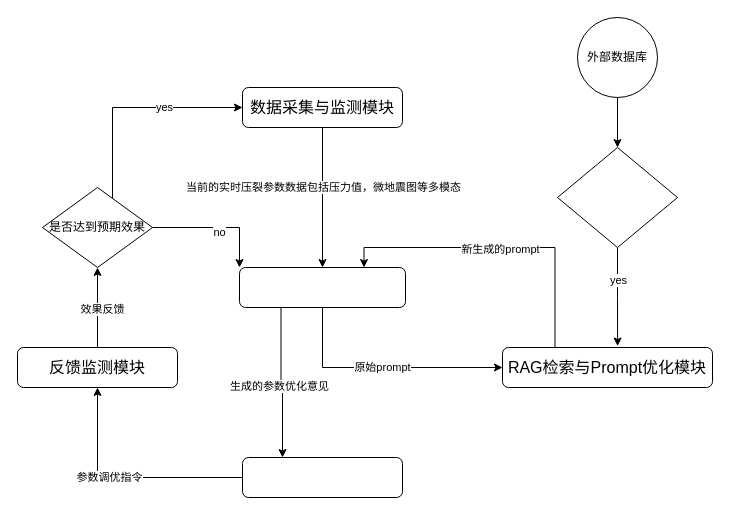
Image size: 730x515. Some labels were removed from this diagram. The shapes that lost their labels are listed below. From the top down, each one's centre as x and y in pixels, then its label:
At (x=617, y=197): "是否与当前压裂场景匹配".
At (x=322, y=287): "大模型微调与决策模块".
At (x=322, y=477): "实时调控模块".
